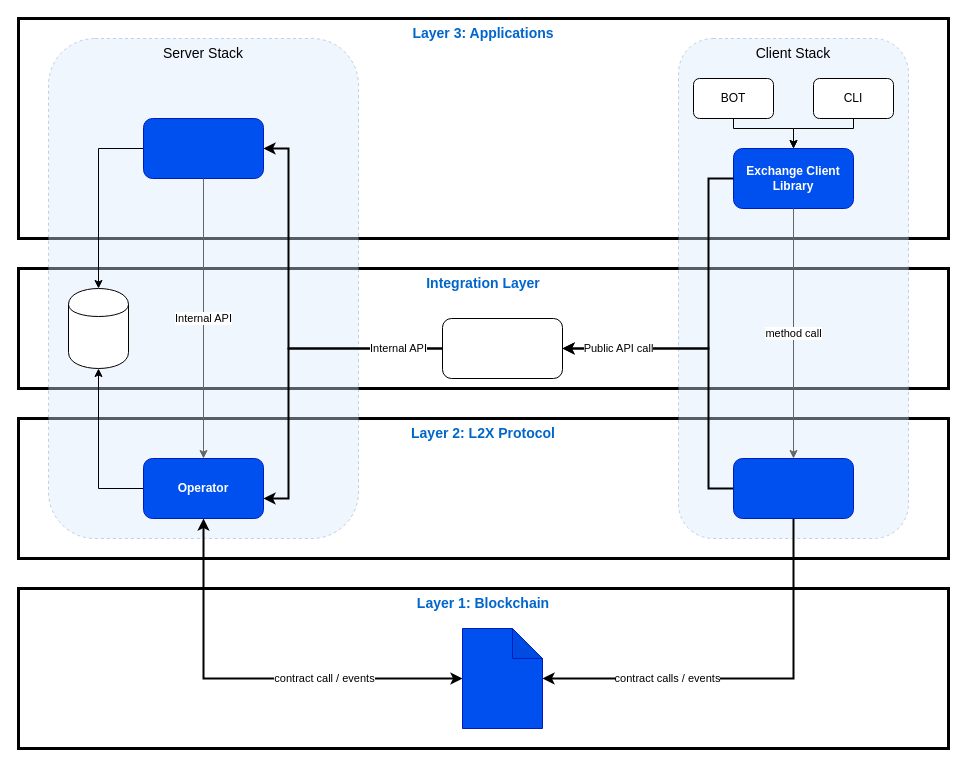
The diagram is 967 pixels wide and 767 high, and some of its shapes have lost their labels. The shapes that lost their labels are listed below. From the top down, each one's centre as x and y in pixels, then its label:
the point at 203,148: Exchange
the point at 98,328: Ledger
the point at 502,348: API Server
the point at 793,488: L2X Client
the point at 502,678: Mediator Contract
